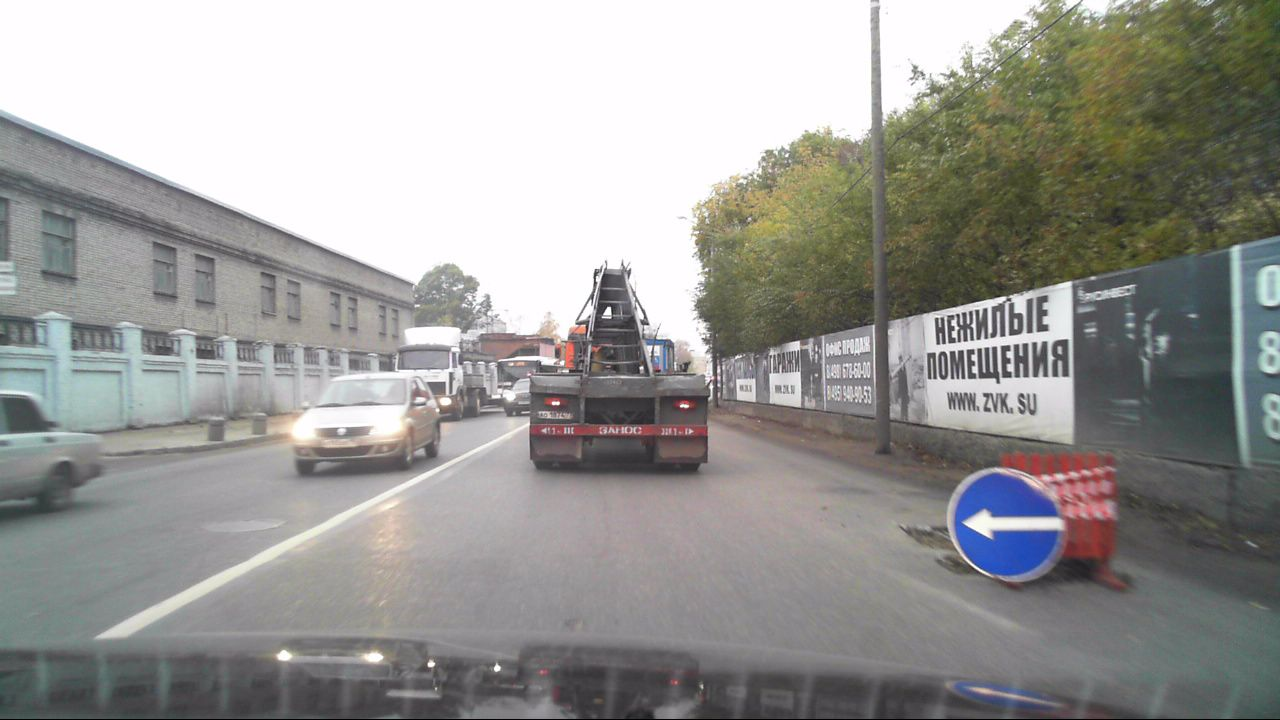Turn Left: (947, 468, 1064, 578)
